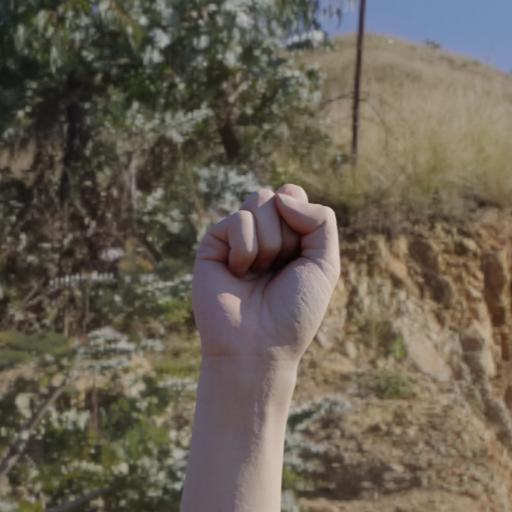S: (139, 140, 385, 382)
